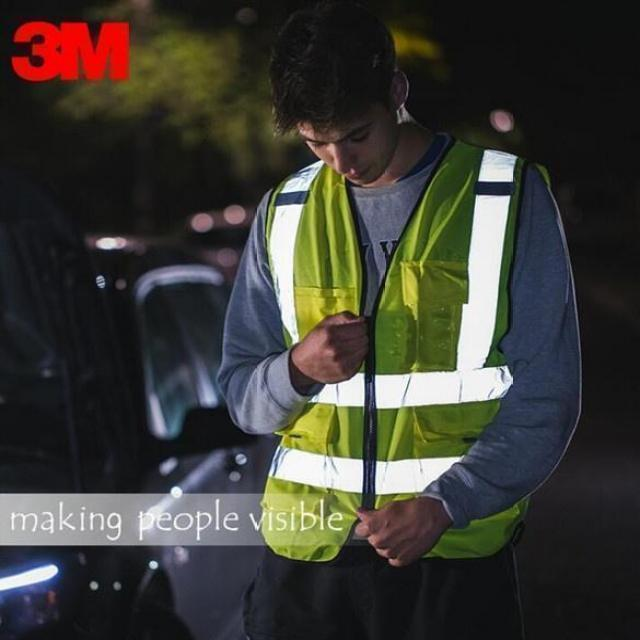no-helmet: (265, 0, 411, 129)
vest: (242, 134, 540, 574)
